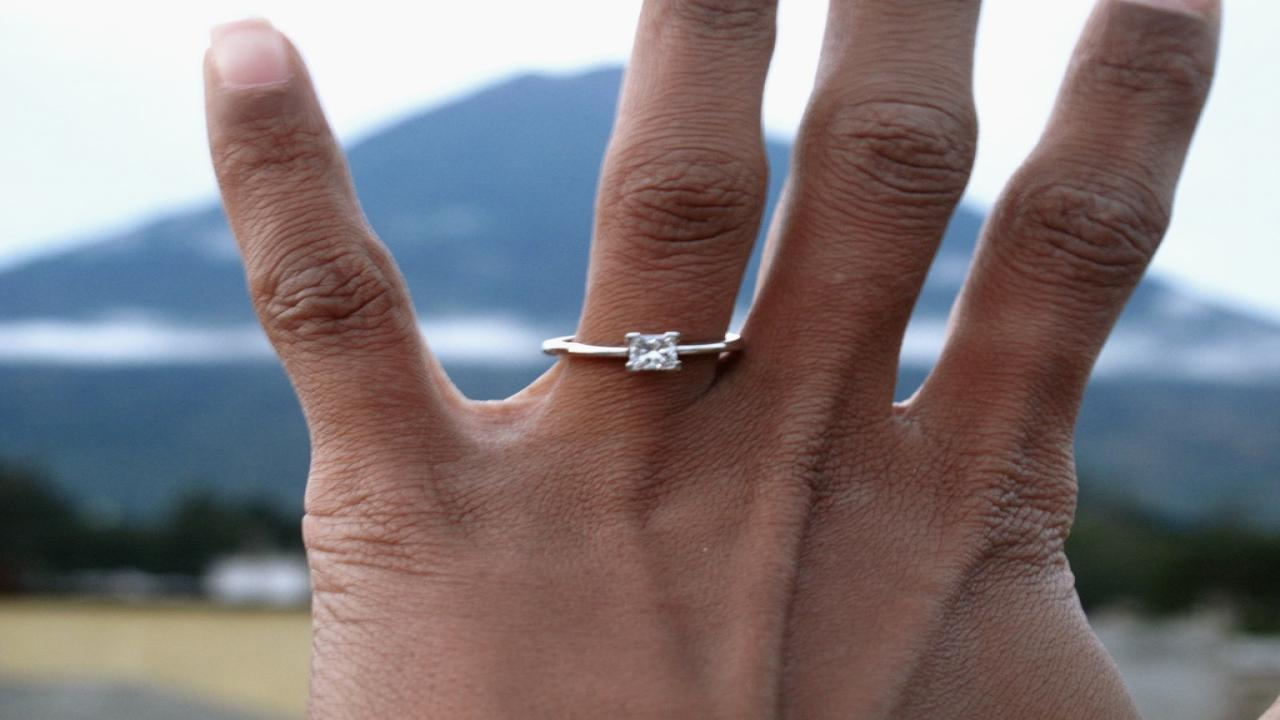ring: (539, 325, 746, 375)
